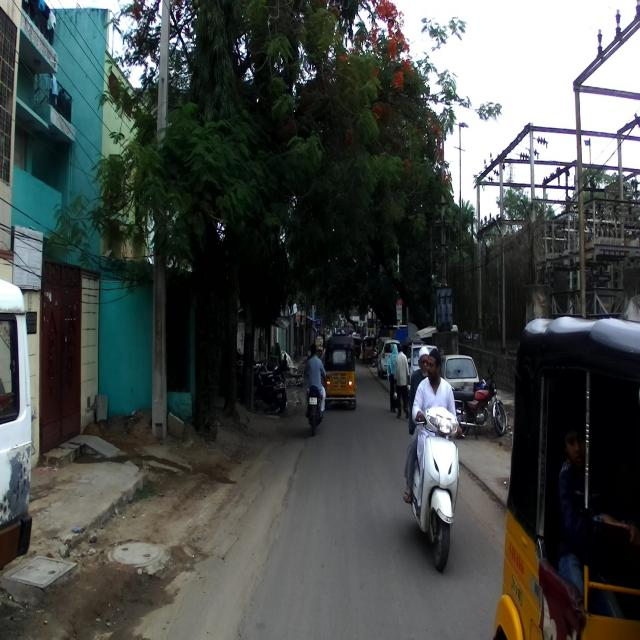autorickshaw: (493, 314, 639, 638)
motorcycle: (448, 364, 505, 438), (451, 364, 509, 431)
scooter: (407, 407, 465, 571)
